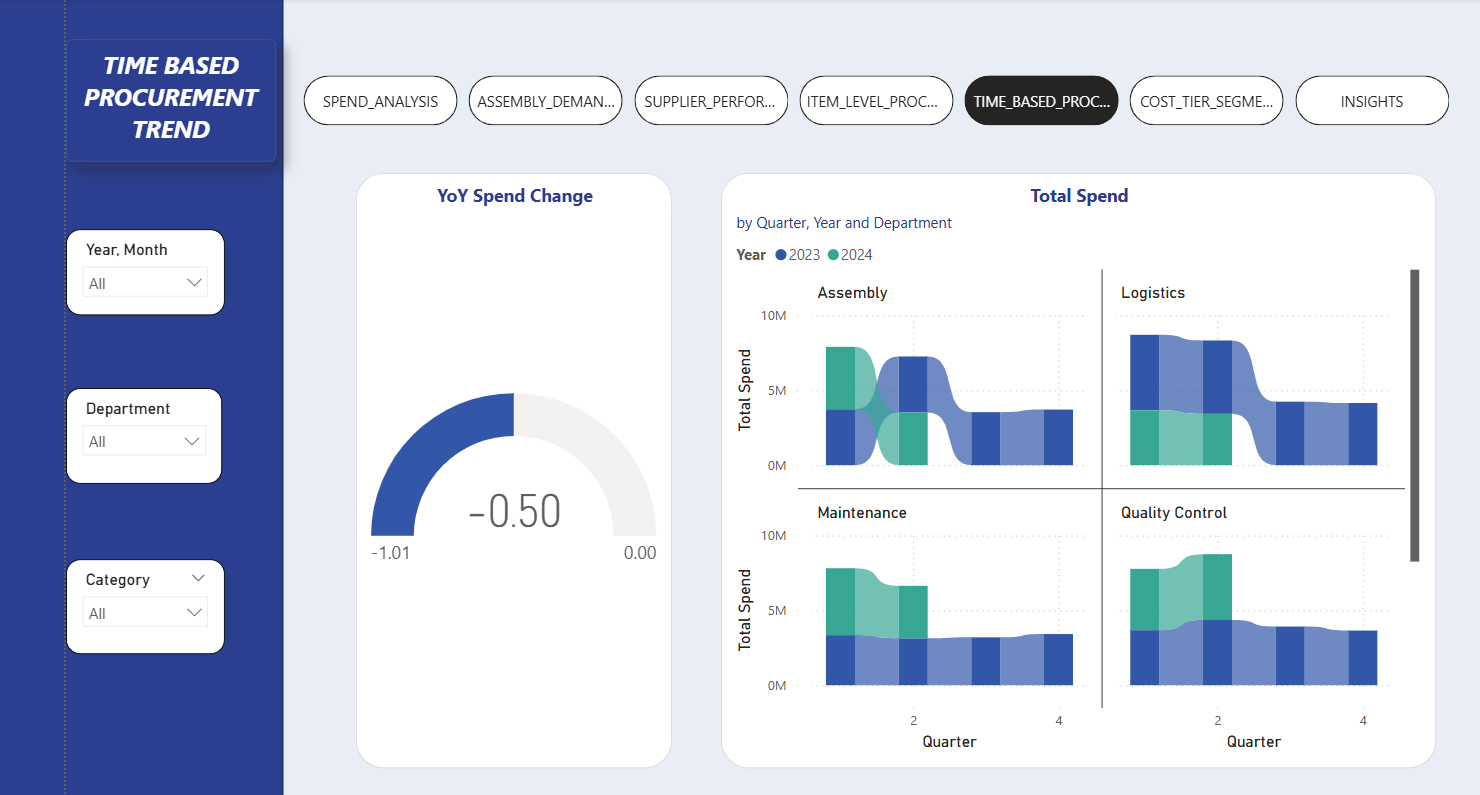

What the dashboard file says about the page in this screenshot:
{"tool":"powerbi","page":{"name":"TIME_BASED_PROCUREMENT_TREND","canvas":[1280,720],"ordinal":4},"visuals":[{"type":"ribbonChart","fields":{"Category":["Data.Quarter"],"Series":["Data.Year"],"Y":["Data.Total Spend"],"Rows":["Data.Department"]},"box":[590.6,157.8,644.7,536.5],"z":0},{"type":"gauge","fields":{"Y":["Data.YoY Spend Change"]},"box":[261.5,157.8,285.2,536.5],"z":1000},{"type":"slicer","fields":{"Values":["Data.Year","Data.Month"]},"box":[0,208.5,143.1,77.8],"z":2000},{"type":"slicer","fields":{"Values":["Data.Department"]},"box":[0,351.7,140.9,86.8],"z":3000},{"type":"slicer","fields":{"Values":["Data.Category"]},"box":[0,506.1,143.1,85.7],"z":4000},{"type":"textbox","box":[0,37.2,189.4,110.5],"z":6000},{"type":"pageNavigator","box":[214.2,69.9,1036.9,45.1],"z":7000}]}

Visuals, with their boxes on the page's 1280x720 design canvas (x1, y1, x2, y2). These are canvas units, not pixel positions in the 1480x795 screenshot, which may show the page scaled, cropped or inside an application window:
ribbonChart - Data.Quarter x Data.Year: <box>591,158,1235,694</box>
gauge - Data.YoY Spend Change: <box>262,158,547,694</box>
slicer - Data.Year x Data.Month: <box>0,208,143,286</box>
slicer - Data.Department: <box>0,352,141,438</box>
slicer - Data.Category: <box>0,506,143,592</box>
textbox: <box>0,37,189,148</box>
pageNavigator: <box>214,70,1251,115</box>
